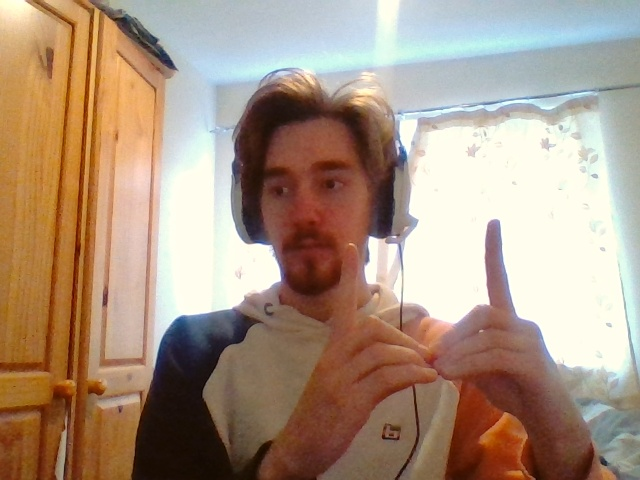meet: (335, 220, 512, 368)
